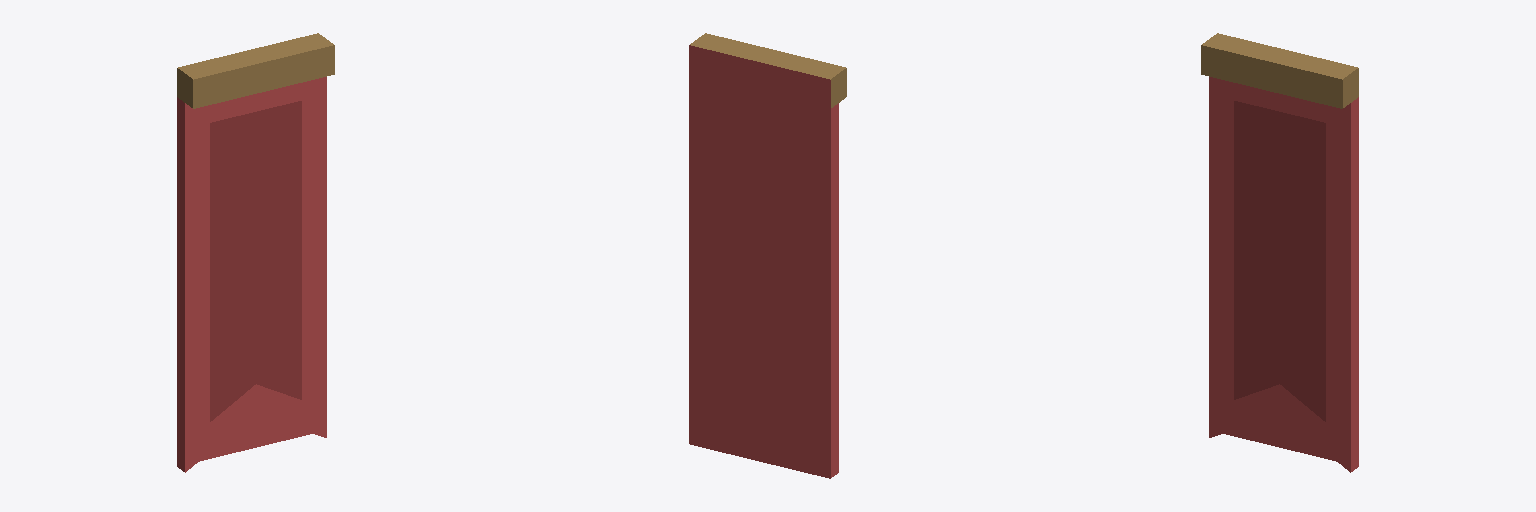
Rendered from M_Banner_01.obj.
The picture shows the model from 3 angles: view 1: azimuth 30°, elevation 25°; view 2: azimuth 150°, elevation 25°; view 3: azimuth 330°, elevation 25°; orthographic projection.
Visible parts, largest first — view 1: Mesh1_Banner_Model; view 2: Mesh1_Banner_Model; view 3: Mesh1_Banner_Model.
Boxes of the visible parts, x1=… form: Mesh1_Banner_Model: x1=177, y1=33, x2=334, y2=472; Mesh1_Banner_Model: x1=689, y1=33, x2=846, y2=478; Mesh1_Banner_Model: x1=1201, y1=33, x2=1358, y2=472.
Bounding box in the file's own units: 1 × 2.7 × 0.2.